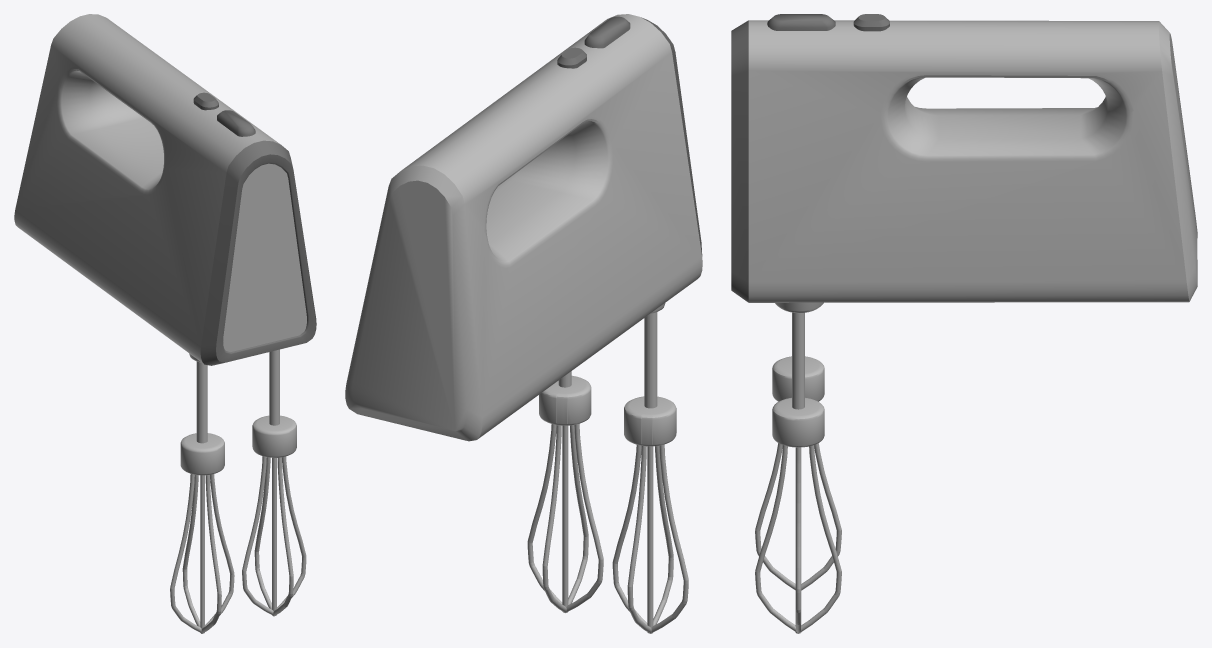
The model's file is hand mixer.fbx.
3 views of the same model, side by side, from view 1: azimuth 30°, elevation 25°; view 2: azimuth 150°, elevation 25°; view 3: azimuth 270°, elevation 25° (orthographic). The views are drawn at different scales.
Visible parts, largest first — view 1: Cube, Cylinder.005, Cylinder.011, Cylinder.004, Cylinder.007, Cylinder.013, Cylinder.009, Cylinder.015, Cylinder.003, Cylinder.014, Cylinder.008, Cylinder.016 (+4 smaller); view 2: Cube, Cylinder.011, Cylinder.005, Cylinder.004, Cylinder.016, Cylinder.010, Cylinder.013, Cylinder.007, Cylinder.014, Cylinder.008, Cylinder.015, Cylinder.009 (+3 smaller); view 3: Cube, Cylinder.005, Cylinder.011, Cylinder.003, Cylinder.008, Cylinder.009, Cylinder, Cylinder.015, Cylinder.014, Cylinder.006.
Boxes of the visible parts, left/top/right/bottom form: Cube: left=14, top=14, right=316, bottom=365; Cylinder.005: left=252, top=415, right=296, bottom=457; Cylinder.011: left=180, top=433, right=224, bottom=475; Cylinder.004: left=196, top=361, right=207, bottom=443; Cylinder.007: left=242, top=456, right=273, bottom=615; Cylinder.013: left=170, top=474, right=201, bottom=632; Cylinder.009: left=273, top=457, right=293, bottom=615; Cylinder.015: left=201, top=475, right=221, bottom=632; Cylinder.003: left=269, top=349, right=279, bottom=425; Cylinder.014: left=182, top=475, right=201, bottom=633; Cylinder.008: left=254, top=457, right=273, bottom=616; Cylinder.016: left=200, top=475, right=204, bottom=633; Cube: left=345, top=14, right=702, bottom=441; Cylinder.011: left=624, top=396, right=676, bottom=446; Cylinder.005: left=539, top=375, right=591, bottom=425; Cylinder.004: left=644, top=312, right=657, bottom=408; Cylinder.016: left=647, top=446, right=653, bottom=633; Cylinder.010: left=562, top=425, right=568, bottom=612; Cylinder.013: left=651, top=444, right=688, bottom=632; Cylinder.007: left=566, top=423, right=603, bottom=611; Cylinder.014: left=627, top=446, right=651, bottom=633; Cylinder.008: left=542, top=425, right=567, bottom=612; Cylinder.015: left=653, top=446, right=673, bottom=625; Cylinder.009: left=568, top=425, right=588, bottom=604; Cube: left=731, top=20, right=1197, bottom=302; Cylinder.005: left=772, top=397, right=824, bottom=447; Cylinder.011: left=772, top=356, right=824, bottom=401; Cylinder.003: left=792, top=312, right=804, bottom=409; Cylinder.008: left=798, top=445, right=841, bottom=633; Cylinder.009: left=755, top=445, right=795, bottom=631; Cylinder: left=767, top=14, right=835, bottom=30; Cylinder.015: left=755, top=443, right=795, bottom=590; Cylinder.014: left=801, top=443, right=841, bottom=590; Cylinder.006: left=796, top=447, right=800, bottom=632.
Bounding box in the file's own units: 116 × 413 × 293.
1 material, 1 textured.
